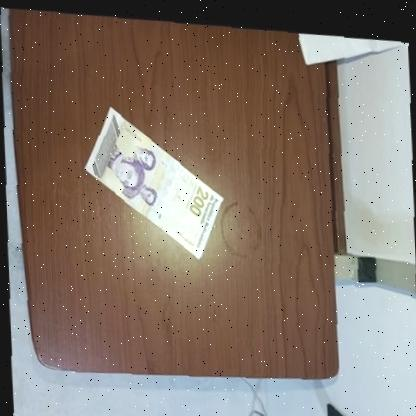two_hundred-front-vef: (80, 97, 226, 261)
